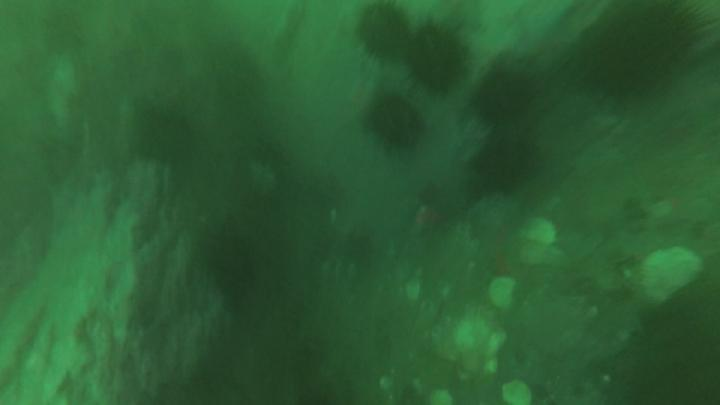echinus: (582, 3, 699, 101), (479, 133, 535, 189), (207, 232, 257, 294), (478, 70, 534, 125), (414, 29, 464, 86), (357, 6, 408, 61), (138, 114, 193, 164), (369, 95, 418, 149)
scallop: (434, 304, 507, 380), (639, 248, 704, 307)
